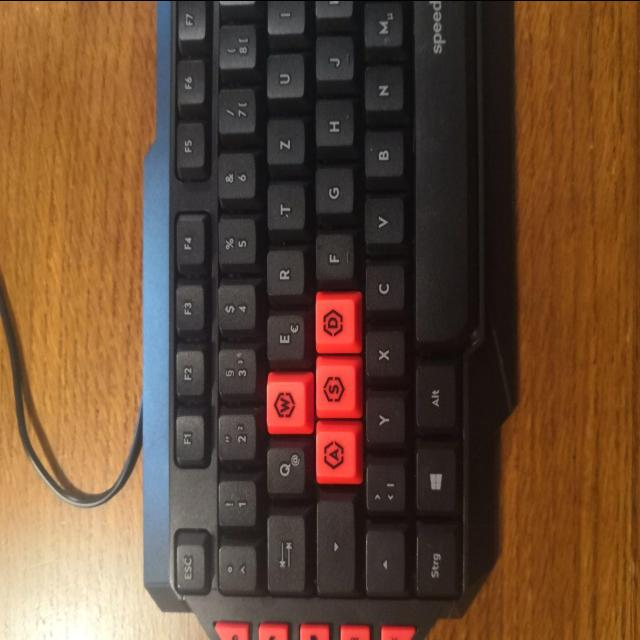1: (216, 480, 256, 531)
2: (216, 413, 256, 465)
3: (215, 347, 257, 399)
4: (216, 282, 257, 334)
5: (216, 217, 257, 269)
6: (215, 151, 256, 203)
7: (215, 87, 256, 139)
8: (215, 24, 257, 74)
a: (312, 425, 358, 487)
alt-left: (413, 365, 456, 434)
b: (361, 130, 403, 182)
c: (362, 264, 404, 316)
caret: (215, 546, 257, 597)
d: (310, 294, 356, 356)
e: (264, 314, 306, 365)
f: (313, 234, 354, 284)
g: (312, 168, 353, 219)
h: (312, 100, 353, 152)
i: (264, 0, 304, 37)
j: (312, 37, 353, 84)
k: (312, 0, 353, 20)
keyboard: (156, 0, 494, 640)
less: (363, 463, 405, 517)
m: (361, 2, 403, 52)
n: (362, 66, 403, 116)
q: (264, 447, 306, 499)
r: (264, 249, 304, 300)
s: (312, 359, 358, 420)
shift-left: (363, 530, 405, 599)
shift-lock: (314, 499, 355, 598)
space: (410, 0, 472, 351)
strg-left: (413, 526, 459, 602)
t: (264, 184, 305, 234)
tab: (264, 514, 306, 598)
u: (264, 54, 304, 102)
v: (361, 196, 403, 248)
w: (263, 375, 309, 437)
x: (362, 330, 404, 382)
y: (363, 395, 405, 448)
z: (264, 119, 304, 170)
